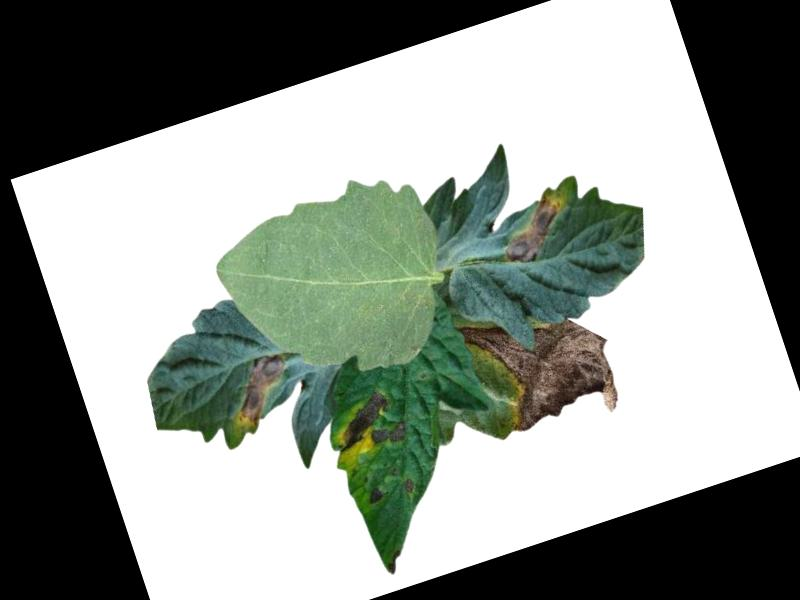Early_blight: (455, 285, 629, 451), (490, 184, 580, 268), (325, 383, 410, 460), (220, 350, 299, 432), (380, 543, 407, 575), (362, 481, 387, 507), (400, 476, 417, 493)
healthy: (200, 156, 475, 410)
